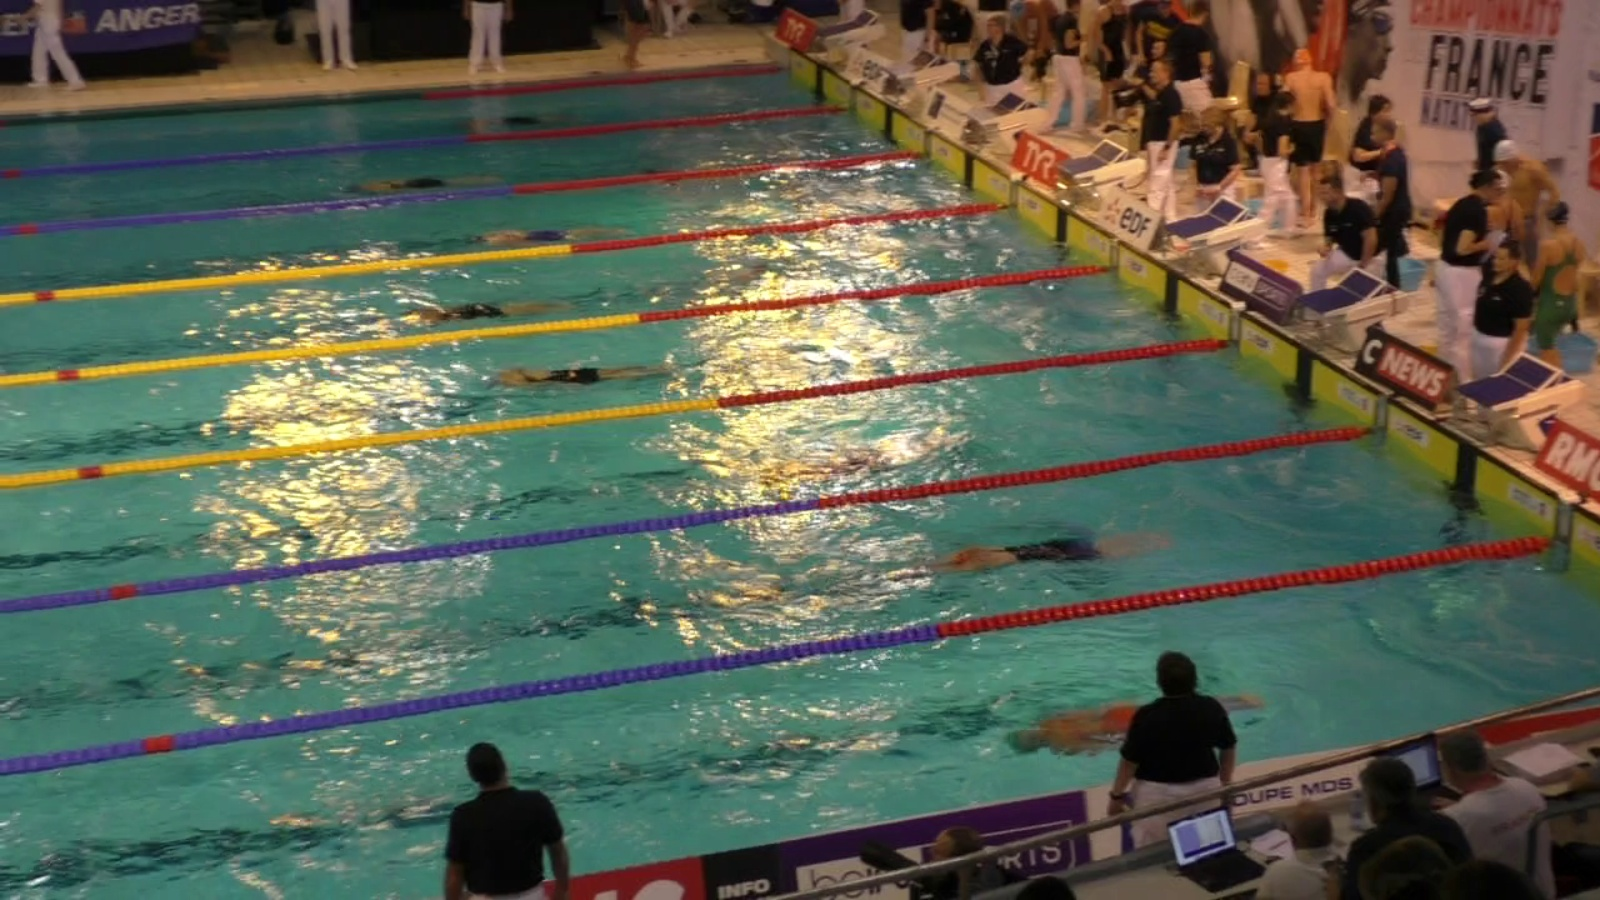swimmerwdd: (1005, 692, 1270, 753), (738, 438, 957, 488), (919, 529, 1175, 567), (477, 362, 677, 396), (389, 299, 566, 325), (466, 223, 621, 247), (341, 177, 505, 193), (451, 111, 577, 131)
